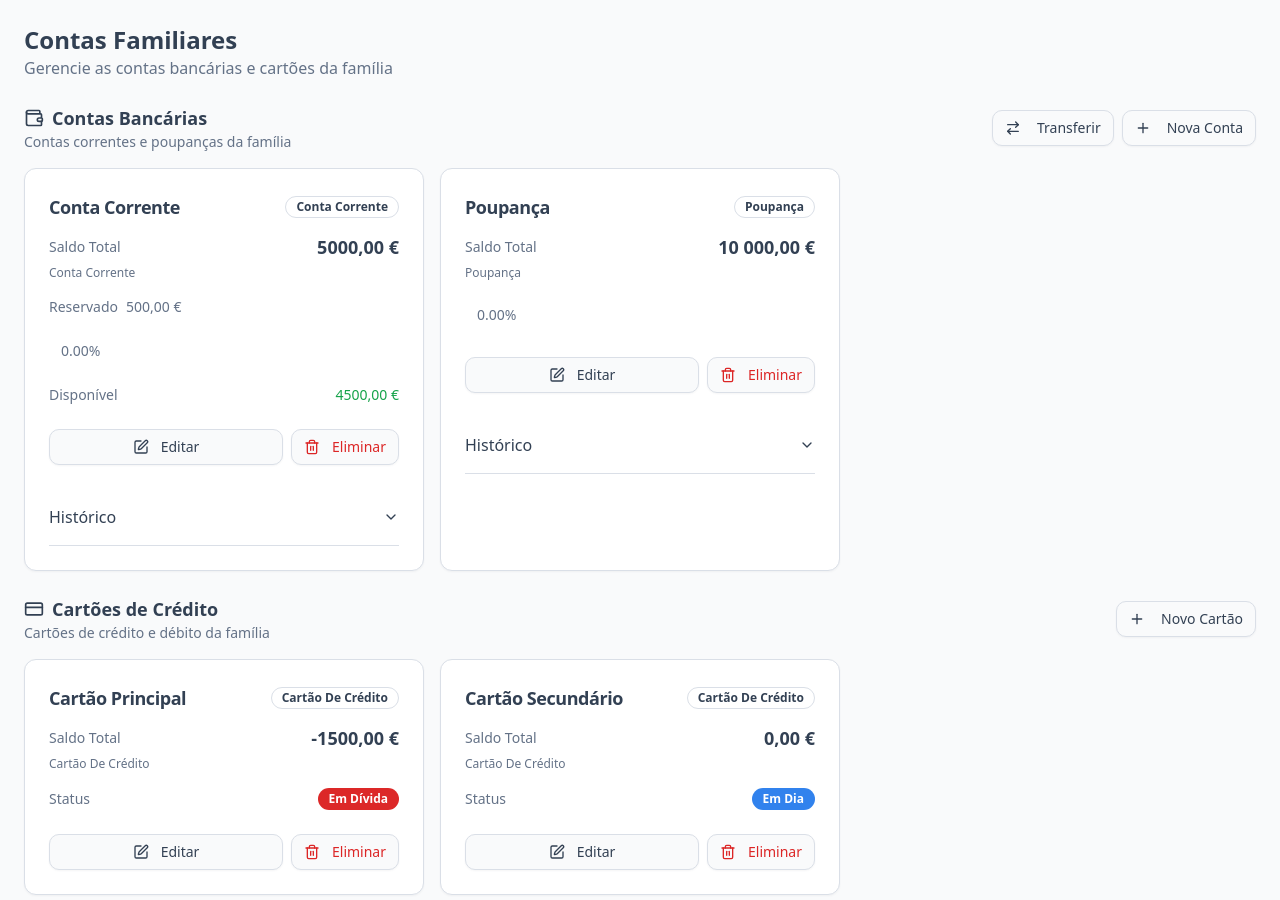
FamilyAccounts - Cenários de Teste › Cenário 1: Família com Contas e Cartões › deve permitir criar nova conta quando user tem permissões
Click the button "Nova Conta" at point(1189, 128), box 1122,110 -> 1256,146
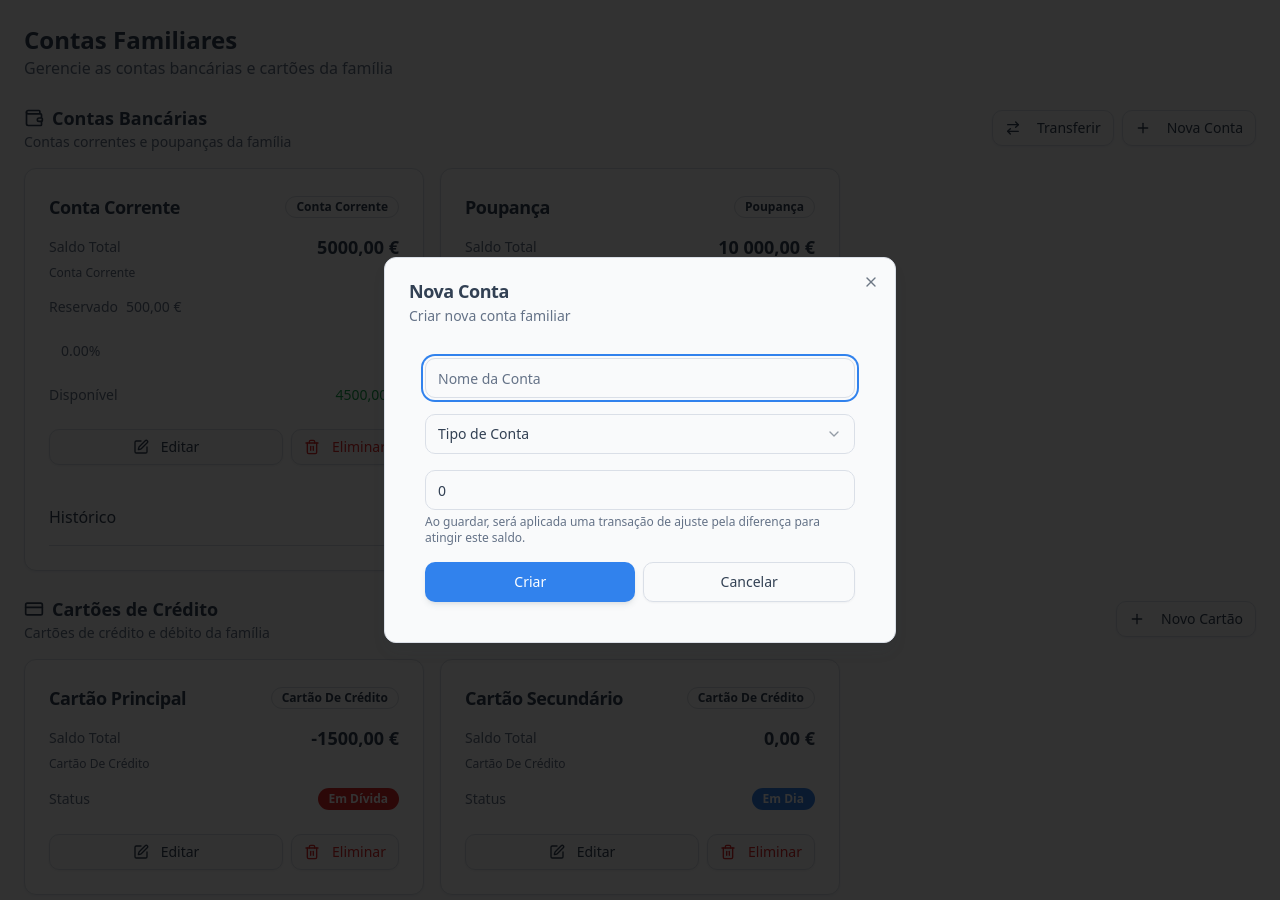
Expected: the dialog is shown, 384,257 -> 896,643
Expected: the text "Criar nova conta familiar" is shown, 409,306 -> 571,325
